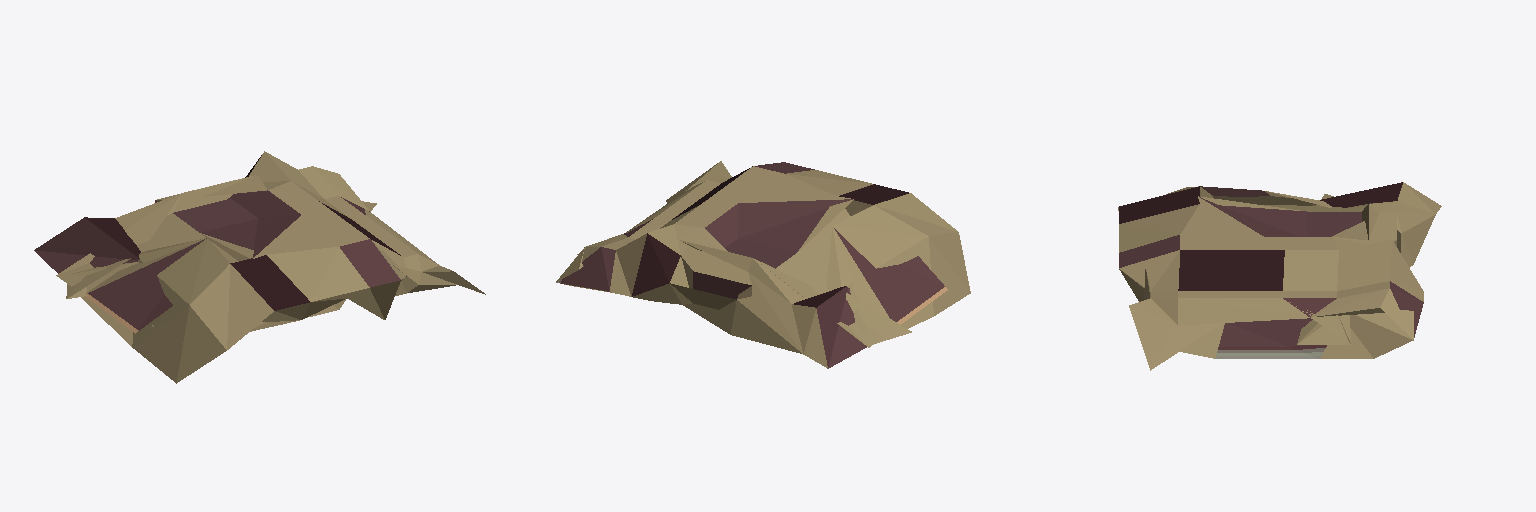
The picture shows the model from 3 angles: view 1: azimuth 30°, elevation 25°; view 2: azimuth 150°, elevation 25°; view 3: azimuth 270°, elevation 25°; orthographic projection.
Visible parts, largest first — view 1: pCube4; view 2: pCube4; view 3: pCube4.
Boxes of the visible parts, box(x1,y1,x2,y2) form: pCube4: box(34, 151, 485, 383); pCube4: box(556, 161, 970, 368); pCube4: box(1118, 182, 1441, 370).
Bounding box in the file's own units: 889 × 244 × 746.
Materials: 1 (1 with a texture image).